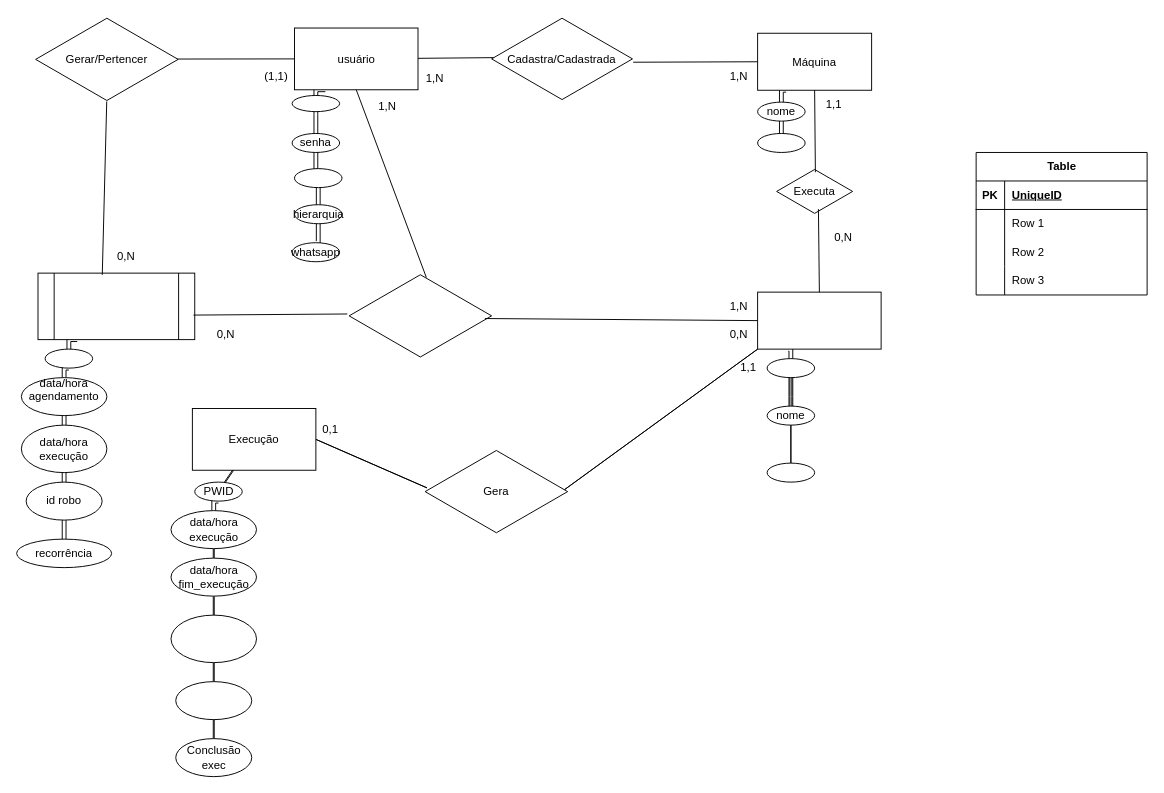
Some shapes in this 1164 by 793 pixel diagram are drawn without their labels. Each missing label, with the box of its shape:
agendamentos: (37, 272, 195, 340)
caminho: (766, 462, 815, 482)
departamento: (294, 168, 342, 188)
id_agendamento: (44, 348, 93, 368)
id_robo: (766, 358, 815, 378)
ip: (757, 133, 805, 152)
log level: (175, 681, 252, 720)
log mesage: (170, 614, 256, 663)
login: (291, 95, 340, 112)
Pertence/Executa: (348, 272, 492, 359)
Robo: (757, 291, 881, 349)
